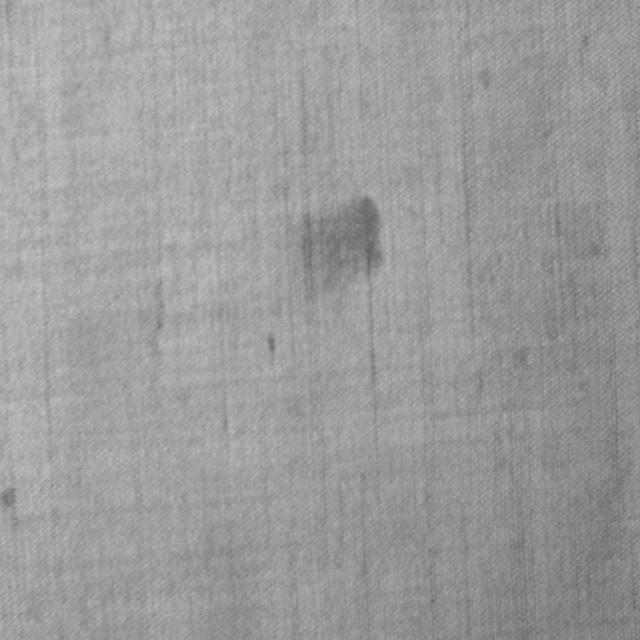oil spot: (296, 189, 386, 305)
